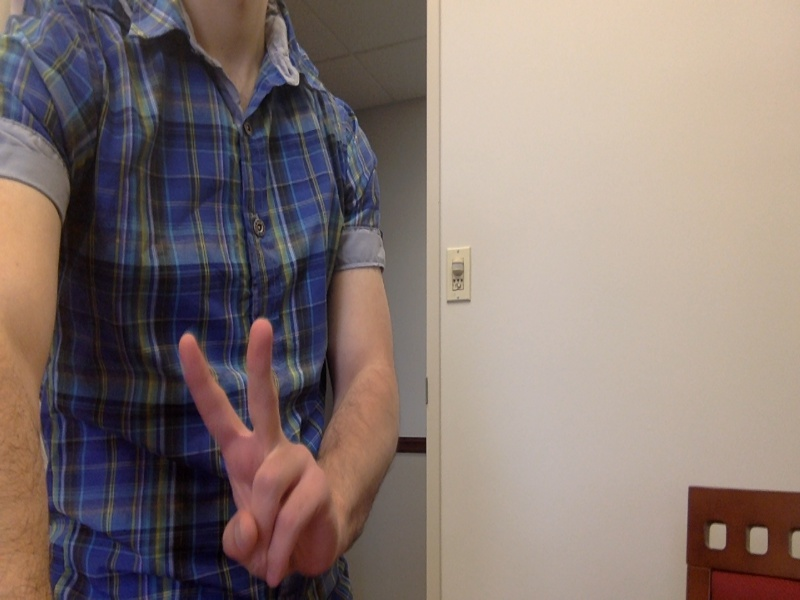2-hand: (176, 317, 345, 585)
